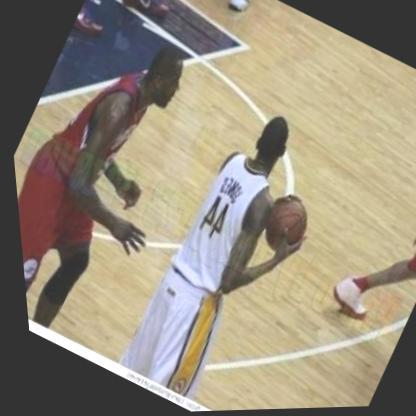basketball: (249, 187, 321, 264)
